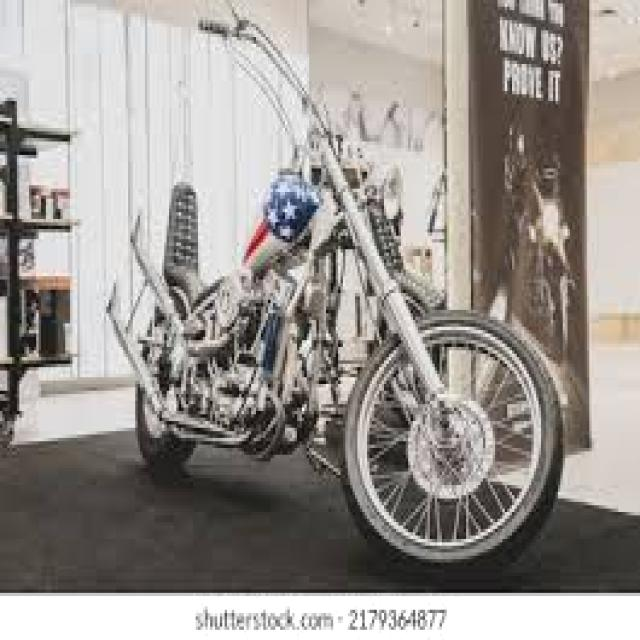MOTORCYCLE: (130, 163, 561, 579)
